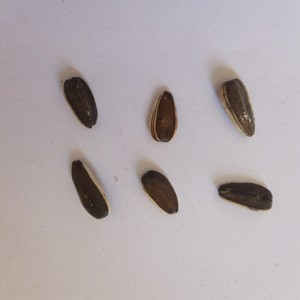girasol: (68, 157, 112, 223), (216, 76, 260, 139), (138, 168, 182, 218), (59, 76, 100, 129), (215, 180, 276, 213), (150, 88, 179, 145)
